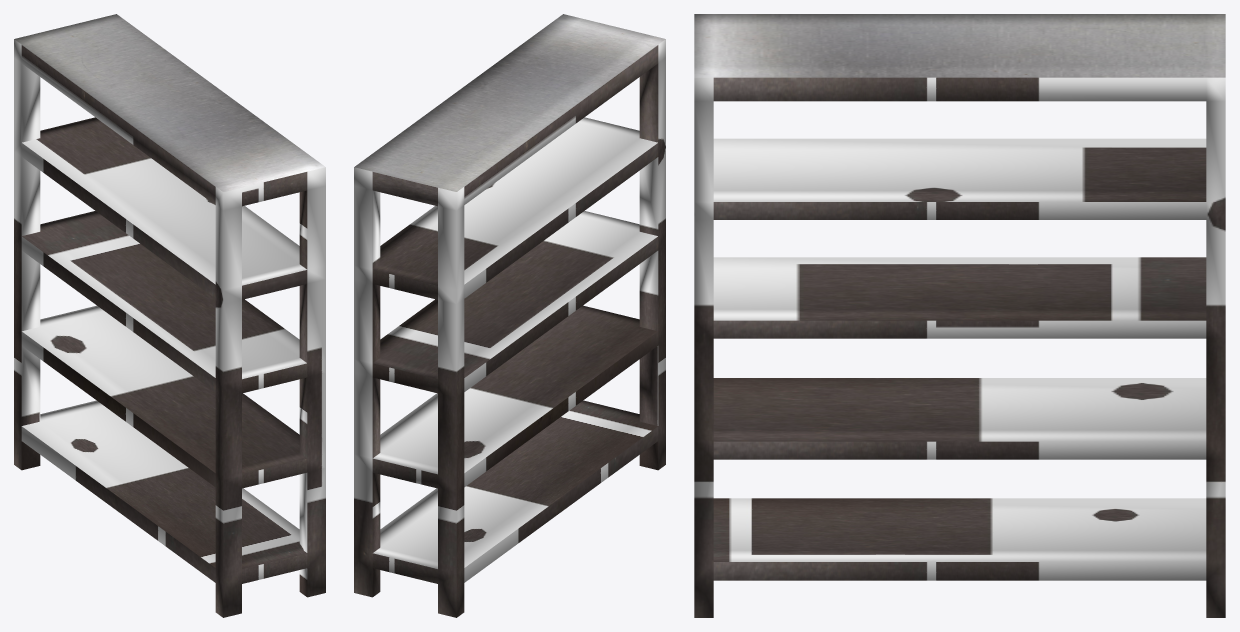
The model's file is Shelving4Slots.fbx.
3 renders of one model, left to right at view 1: azimuth 30°, elevation 25°; view 2: azimuth 150°, elevation 25°; view 3: azimuth 270°, elevation 25°, orthographic. The views are drawn at different scales.
Visible parts, largest first — view 1: Shelving4Slots; view 2: Shelving4Slots; view 3: Shelving4Slots.
Part boxes in pixels (<box>): Shelving4Slots: <box>14,14,325,617</box>; Shelving4Slots: <box>354,14,665,617</box>; Shelving4Slots: <box>694,14,1225,617</box>.
Bounding box in the file's own units: 56.62 × 225 × 200.
